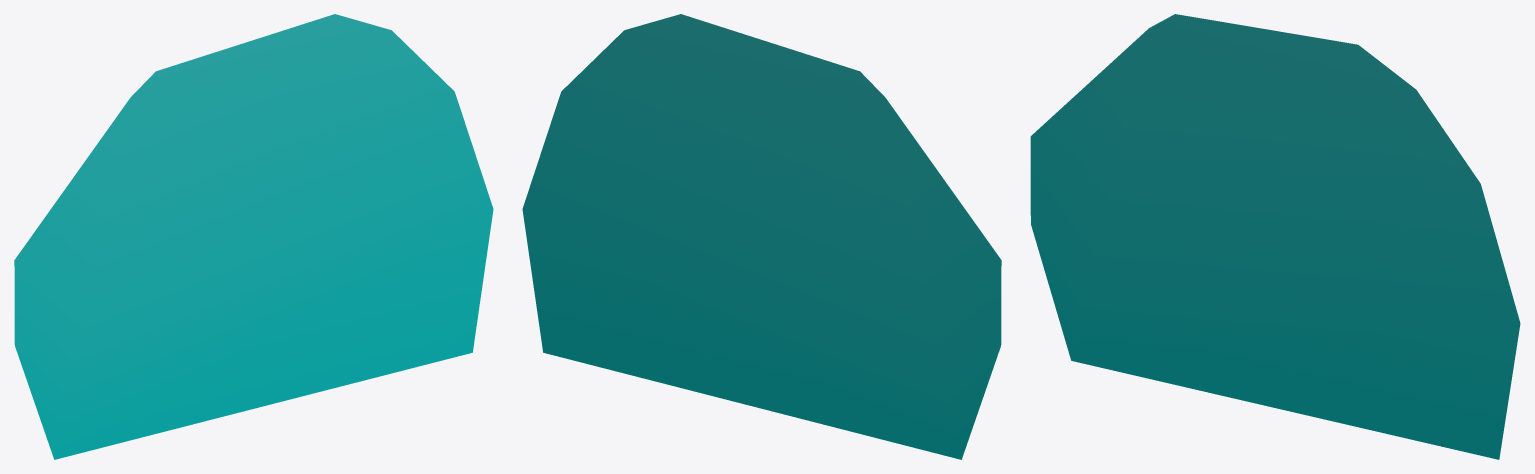
The model's file is Bigleaf_Hydrangea_vgztealha_Mid_vgztealha_VarE_LOD3.fbx.
The picture shows the model from 3 angles, left to right: view 1: azimuth 30°, elevation 25°; view 2: azimuth 150°, elevation 25°; view 3: azimuth 330°, elevation 25°; orthographic projection. The views are drawn at different scales.
Visible parts, largest first — view 1: _d5qo_VarE_LOD5; view 2: _d5qo_VarE_LOD5; view 3: _d5qo_VarE_LOD5.
Part boxes in pixels (x1,y1,x2,y2): _d5qo_VarE_LOD5: (14,14,493,459); _d5qo_VarE_LOD5: (522,14,1001,459); _d5qo_VarE_LOD5: (1030,14,1520,459).
Bounding box in the file's own units: 77.91 × 58.67 × 0.
